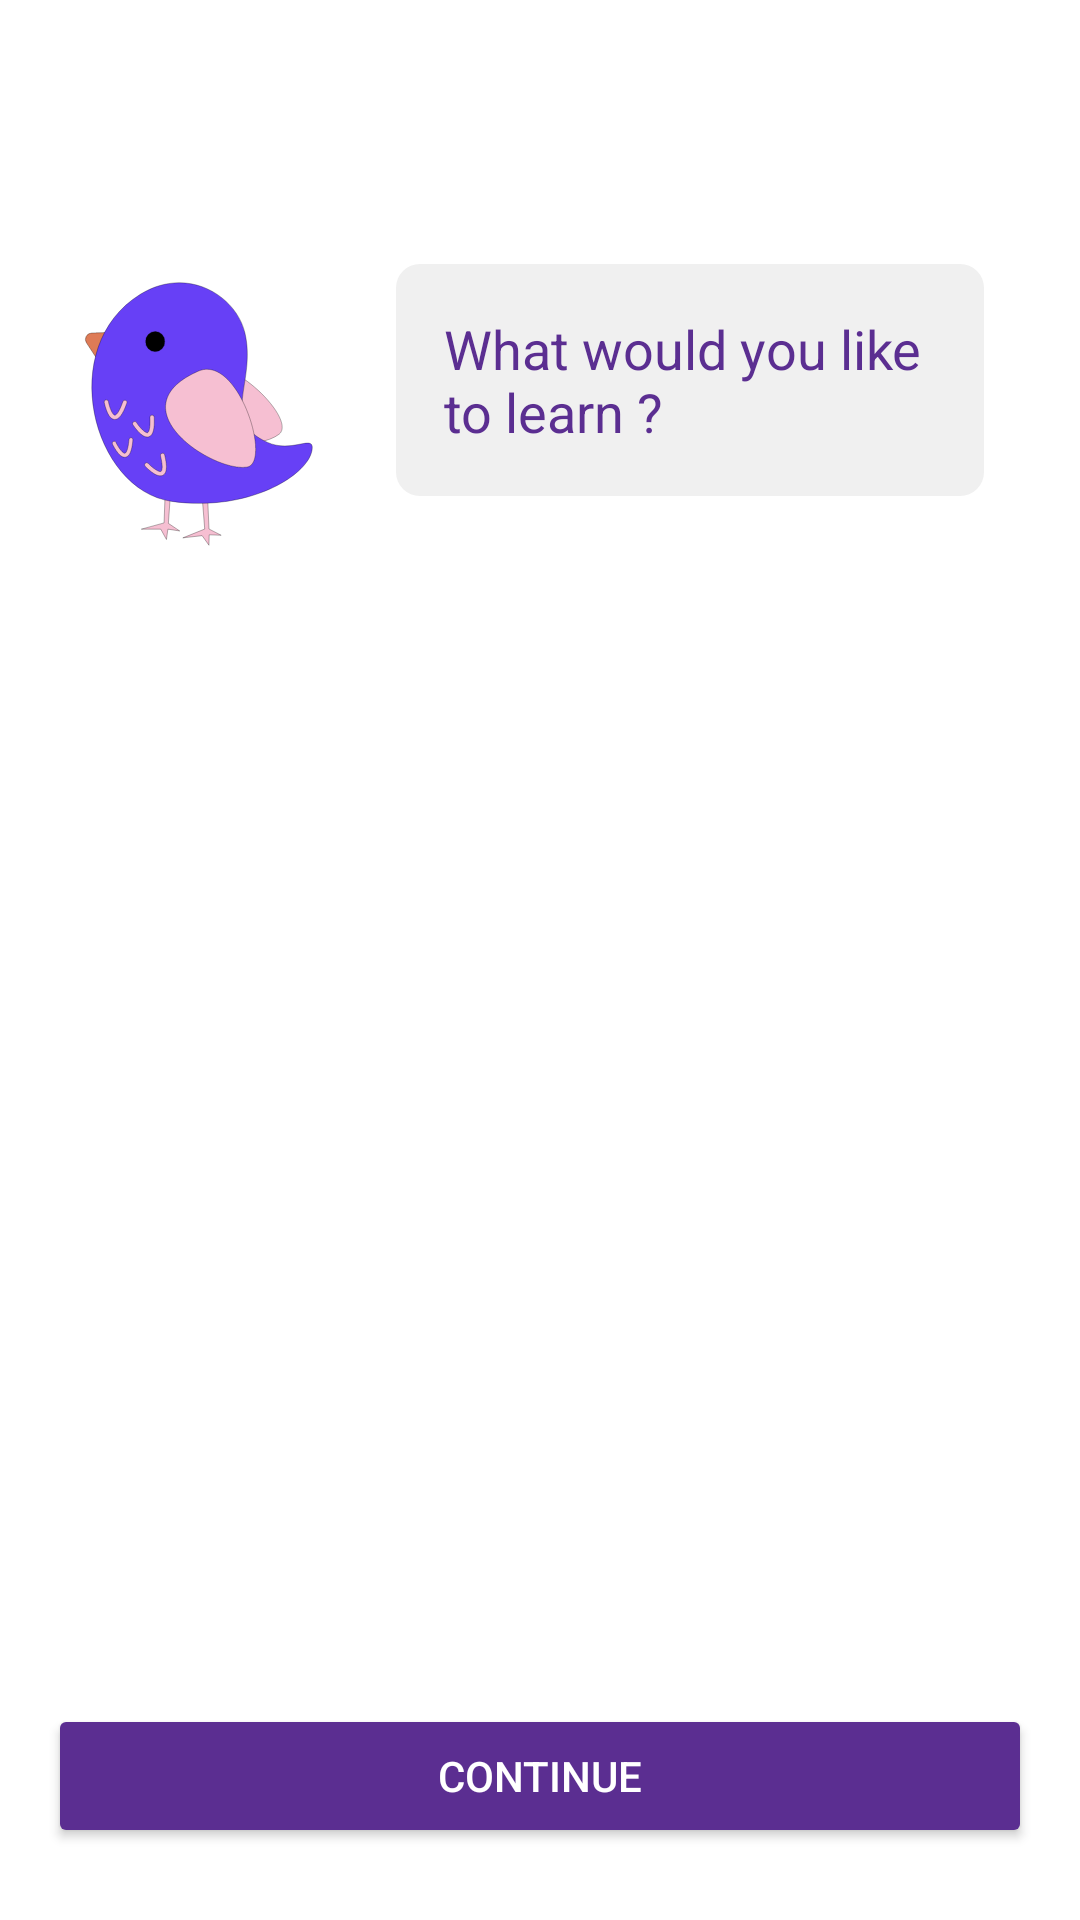

Icon bounding boxes for this 1080*1920 phone screenshot, format (x1, y1, x2, y2):
bird: (85, 282, 313, 545)
